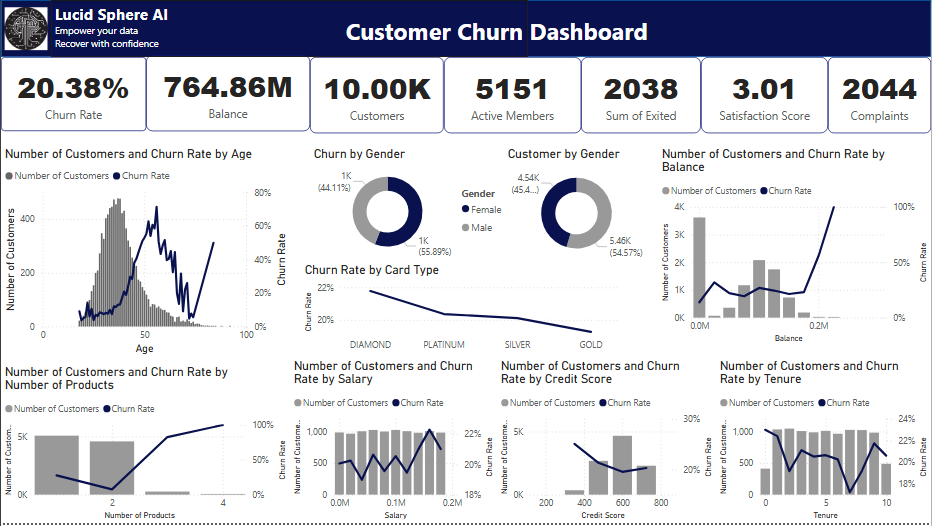

Layout of this report page (visuals, bound fields, positions):
{"tool":"powerbi","page":{"name":"Page 2","canvas":[1280,720],"ordinal":0},"visuals":[{"type":"lineStackedColumnComboChart","fields":{"Category":["Customer-Churn-Records.Age"],"Y2":["Customer-Churn-Records.Churn Rate"],"Y":["CountNonNull(Customer-Churn-Records.CustomerId)"]},"box":[0,200.9,397.8,291.8],"z":0},{"type":"lineStackedColumnComboChart","fields":{"Category":["Customer-Churn-Records.NumOfProducts"],"Y2":["Customer-Churn-Records.Churn Rate"],"Y":["CountNonNull(Customer-Churn-Records.CustomerId)"]},"box":[0,501,397.8,218.8],"z":1000},{"type":"lineStackedColumnComboChart","fields":{"Category":["Customer-Churn-Records.Tenure"],"Y2":["Customer-Churn-Records.Churn Rate"],"Y":["CountNonNull(Customer-Churn-Records.CustomerId)"]},"box":[984.1,492.7,295.9,227.1],"z":2000},{"type":"lineStackedColumnComboChart","fields":{"Category":["Customer-Churn-Records.CreditScore (bins)"],"Y2":["Customer-Churn-Records.Churn Rate"],"Y":["CountNonNull(Customer-Churn-Records.CustomerId)"]},"box":[682.7,492.7,301.4,227.1],"z":3000},{"type":"lineStackedColumnComboChart","fields":{"Category":["Customer-Churn-Records.EstimatedSalary (bins)"],"Y2":["Customer-Churn-Records.Churn Rate"],"Y":["CountNonNull(Customer-Churn-Records.CustomerId)"]},"box":[397.8,492.7,284.9,227.1],"z":4000},{"type":"lineStackedColumnComboChart","fields":{"Y2":["Customer-Churn-Records.Churn Rate"],"Category":["Customer-Churn-Records.Balance (bins)"],"Y":["CountNonNull(Customer-Churn-Records.CustomerId)"]},"box":[904.3,200.9,375.7,275.3],"z":5000},{"type":"donutChart","fields":{"Category":["Customer-Churn-Records.Gender"],"Y":["Sum(Customer-Churn-Records.Exited)"]},"box":[425.3,200.9,279.4,159.7],"z":6000},{"type":"donutChart","fields":{"Y":["CountNonNull(Customer-Churn-Records.CustomerId)"],"Category":["Customer-Churn-Records.Gender"]},"box":[692.3,200.9,199.6,163.8],"z":7000},{"type":"shape","box":[0,0,1280,78.5],"z":8000},{"type":"image","box":[0,0,68.8,78.5],"z":9000},{"type":"textbox","box":[68.8,0,656.5,78.5],"z":10000},{"type":"textbox","box":[469.3,15.1,656.5,185.8],"z":11000},{"type":"card","fields":{"Values":["Customer-Churn-Records.Churn Rate"]},"box":[0,78.5,199.6,101.8],"z":12000},{"type":"card","fields":{"Values":["Sum(Customer-Churn-Records.Balance)"]},"box":[199.6,75.7,225.7,104.6],"z":13000},{"type":"card","fields":{"Values":["Sum(Customer-Churn-Records.Exited)"]},"box":[798.3,78.5,165.2,104.6],"z":14000},{"type":"card","fields":{"Values":["Avg(Customer-Churn-Records.Satisfaction Score)"]},"box":[963.4,78.5,174.8,104.6],"z":15000},{"type":"card","fields":{"Values":["Sum(Customer-Churn-Records.IsActiveMember)"]},"box":[609.7,78.5,188.6,104.6],"z":16000},{"type":"card","fields":{"Values":["CountNonNull(Customer-Churn-Records.CustomerId)"]},"box":[425.3,78.5,184.4,104.6],"z":17000},{"type":"card","fields":{"Values":["Sum(Customer-Churn-Records.Complain)"]},"box":[1138.2,78.5,141.8,104.6],"z":18000},{"type":"lineChart","fields":{"Y":["Customer-Churn-Records.Churn Rate"],"Category":["Customer-Churn-Records.Card Type"]},"box":[412.9,360.6,444.6,132.1],"z":19000}]}

Visuals, with their boxes in screenshot pixels (x1, y1, x2, y2), scaled from the page's 1280x720 canvas onto the 932x526 screenshot:
lineStackedColumnComboChart - Customer-Churn-Records.Age x Customer-Churn-Records.Churn Rate: (0,147,290,360)
lineStackedColumnComboChart - Customer-Churn-Records.NumOfProducts x Customer-Churn-Records.Churn Rate: (0,366,290,525)
lineStackedColumnComboChart - Customer-Churn-Records.Tenure x Customer-Churn-Records.Churn Rate: (717,360,931,525)
lineStackedColumnComboChart - Customer-Churn-Records.CreditScore (bins) x Customer-Churn-Records.Churn Rate: (497,360,717,525)
lineStackedColumnComboChart - Customer-Churn-Records.EstimatedSalary (bins) x Customer-Churn-Records.Churn Rate: (290,360,497,525)
lineStackedColumnComboChart - Customer-Churn-Records.Churn Rate x Customer-Churn-Records.Balance (bins): (658,147,931,348)
donutChart - Customer-Churn-Records.Gender x Sum(Customer-Churn-Records.Exited): (310,147,513,263)
donutChart - CountNonNull(Customer-Churn-Records.CustomerId) x Customer-Churn-Records.Gender: (504,147,649,266)
shape: (0,0,931,57)
image: (0,0,50,57)
textbox: (50,0,528,57)
textbox: (342,11,820,147)
card - Customer-Churn-Records.Churn Rate: (0,57,145,132)
card - Sum(Customer-Churn-Records.Balance): (145,55,310,132)
card - Sum(Customer-Churn-Records.Exited): (581,57,702,134)
card - Avg(Customer-Churn-Records.Satisfaction Score): (701,57,829,134)
card - Sum(Customer-Churn-Records.IsActiveMember): (444,57,581,134)
card - CountNonNull(Customer-Churn-Records.CustomerId): (310,57,444,134)
card - Sum(Customer-Churn-Records.Complain): (829,57,931,134)
lineChart - Customer-Churn-Records.Churn Rate x Customer-Churn-Records.Card Type: (301,263,624,360)
